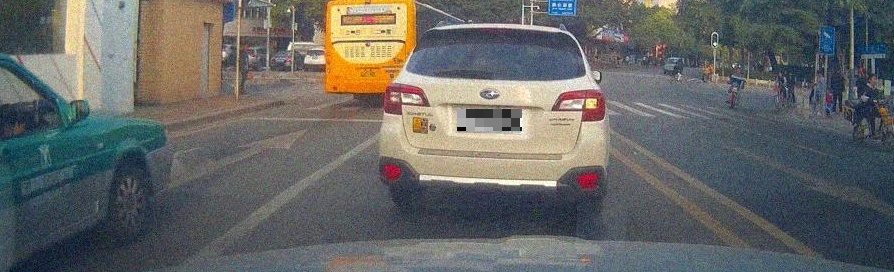L_light: (382, 82, 429, 115)
R_light: (550, 88, 606, 122)
T_light: (476, 27, 514, 35)
day-right: (378, 23, 609, 216)
plate_1: (457, 109, 522, 131)
